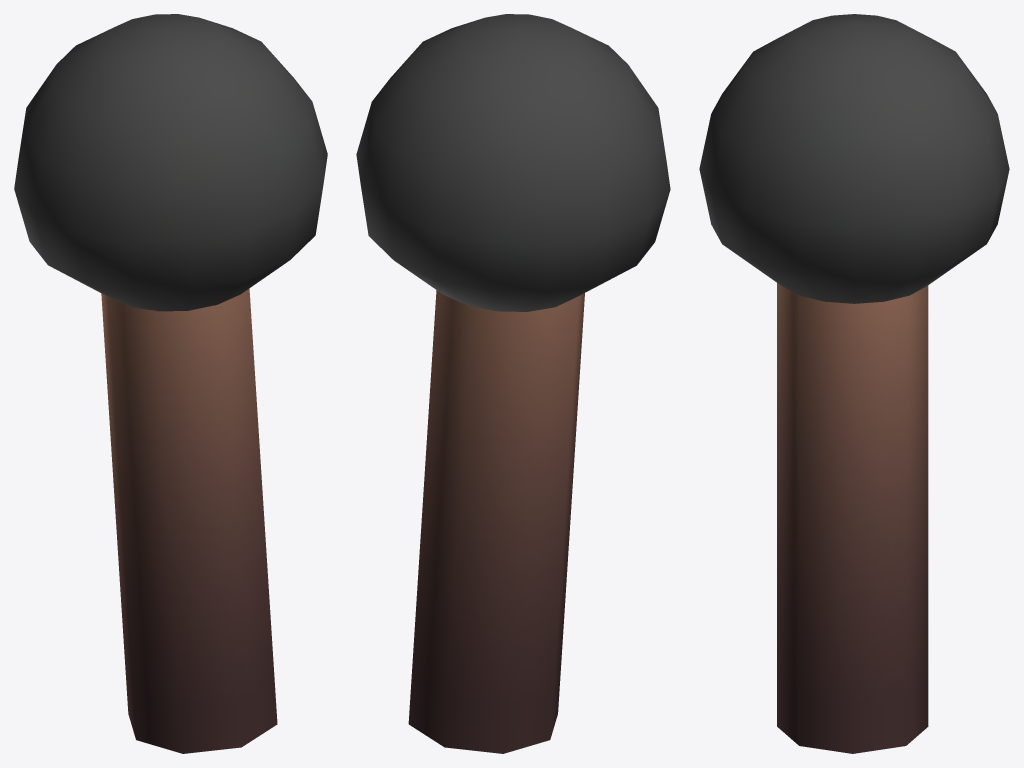
The model's file is Auricular_2.obj.
3 views of the same model, side by side, from view 1: azimuth 30°, elevation 25°; view 2: azimuth 150°, elevation 25°; view 3: azimuth 270°, elevation 25° (orthographic). The views are drawn at different scales.
Visible parts, largest first — view 1: Auricular2; view 2: Auricular2; view 3: Auricular2.
Part boxes in pixels (x1=…): Auricular2: x1=14, y1=14, x2=327, y2=753; Auricular2: x1=356, y1=14, x2=670, y2=753; Auricular2: x1=699, y1=14, x2=1009, y2=753.
Bounding box in the file's own units: 4.34 × 10.63 × 4.35.
1 material, 1 textured.
